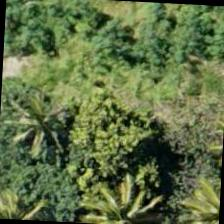Kelapa_Sawit: (0, 80, 88, 175), (78, 167, 172, 223)
